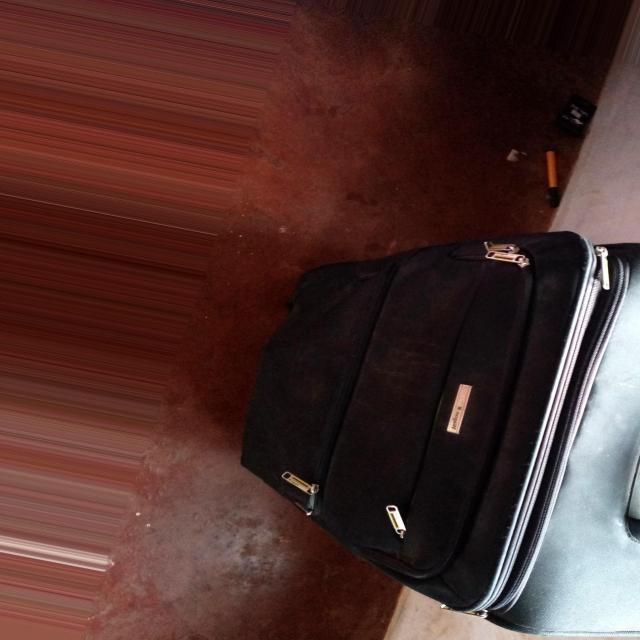Suitcase: (233, 230, 640, 640)
